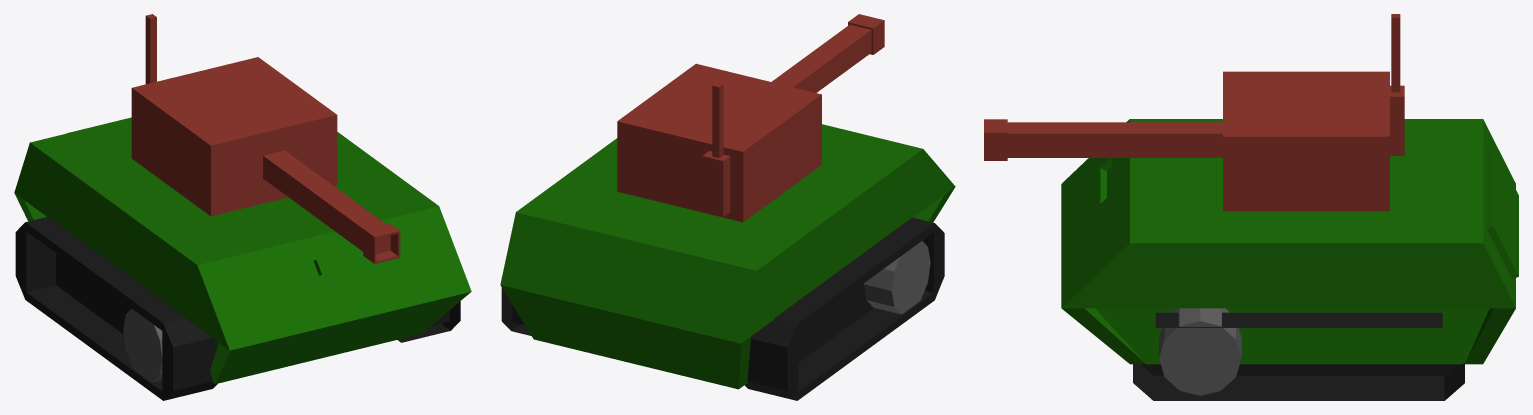
Rendered from TankLow.glb.
3 views of the same model, side by side, from view 1: azimuth 30°, elevation 25°; view 2: azimuth 150°, elevation 25°; view 3: azimuth 270°, elevation 25° (orthographic). The views are drawn at different scales.
Visible parts, largest first — view 1: Body, Turret, Tracks, Cannon, Wheels.001; view 2: Body, Turret, Tracks, Cannon, Wheels.001; view 3: Body, Turret, Tracks, Cannon, Wheels.001.
Part boxes in pixels (left/top/right/bottom): Body: left=14, top=117, right=471, bottom=383; Turret: left=131, top=14, right=337, bottom=216; Tracks: left=15, top=216, right=460, bottom=400; Cannon: left=263, top=150, right=400, bottom=263; Wheels.001: left=123, top=308, right=162, bottom=382; Body: left=500, top=124, right=955, bottom=389; Turret: left=617, top=63, right=821, bottom=222; Tracks: left=501, top=217, right=944, bottom=400; Cannon: left=772, top=14, right=884, bottom=92; Wheels.001: left=864, top=241, right=930, bottom=314; Body: left=1061, top=119, right=1518, bottom=364; Turret: left=1223, top=14, right=1404, bottom=211; Tracks: left=1133, top=312, right=1464, bottom=400; Cannon: left=984, top=119, right=1222, bottom=160; Wheels.001: left=1159, top=308, right=1241, bottom=395.
Size of the model in its own units: 7.75 by 7.09 by 11.83.
